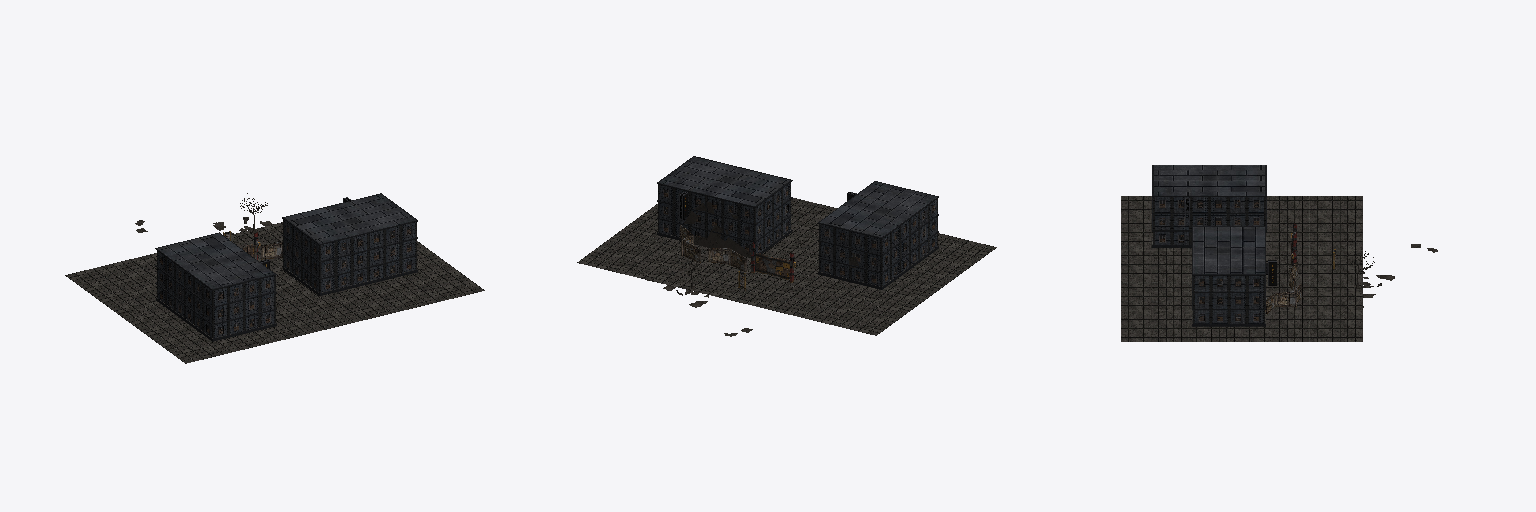
The picture shows the model from 3 angles: view 1: azimuth 30°, elevation 25°; view 2: azimuth 150°, elevation 25°; view 3: azimuth 270°, elevation 25°; orthographic projection.
Visible parts, largest first — view 1: Plane02, aab, aab01; view 2: Plane02, aab01, aab, gate; view 3: Plane02, aab01, aab.
Boxes of the visible parts, x1,y1,x2,y2 form: Plane02: [65, 222, 484, 363]; aab: [282, 193, 417, 295]; aab01: [155, 232, 276, 341]; Plane02: [577, 198, 996, 335]; aab01: [818, 181, 938, 289]; aab: [657, 156, 792, 254]; gate: [750, 242, 796, 282]; Plane02: [1121, 196, 1362, 341]; aab01: [1152, 165, 1266, 247]; aab: [1192, 226, 1276, 326].
Bounding box in the file's own units: 3678 × 914 × 3382.
6 materials, 6 textured.